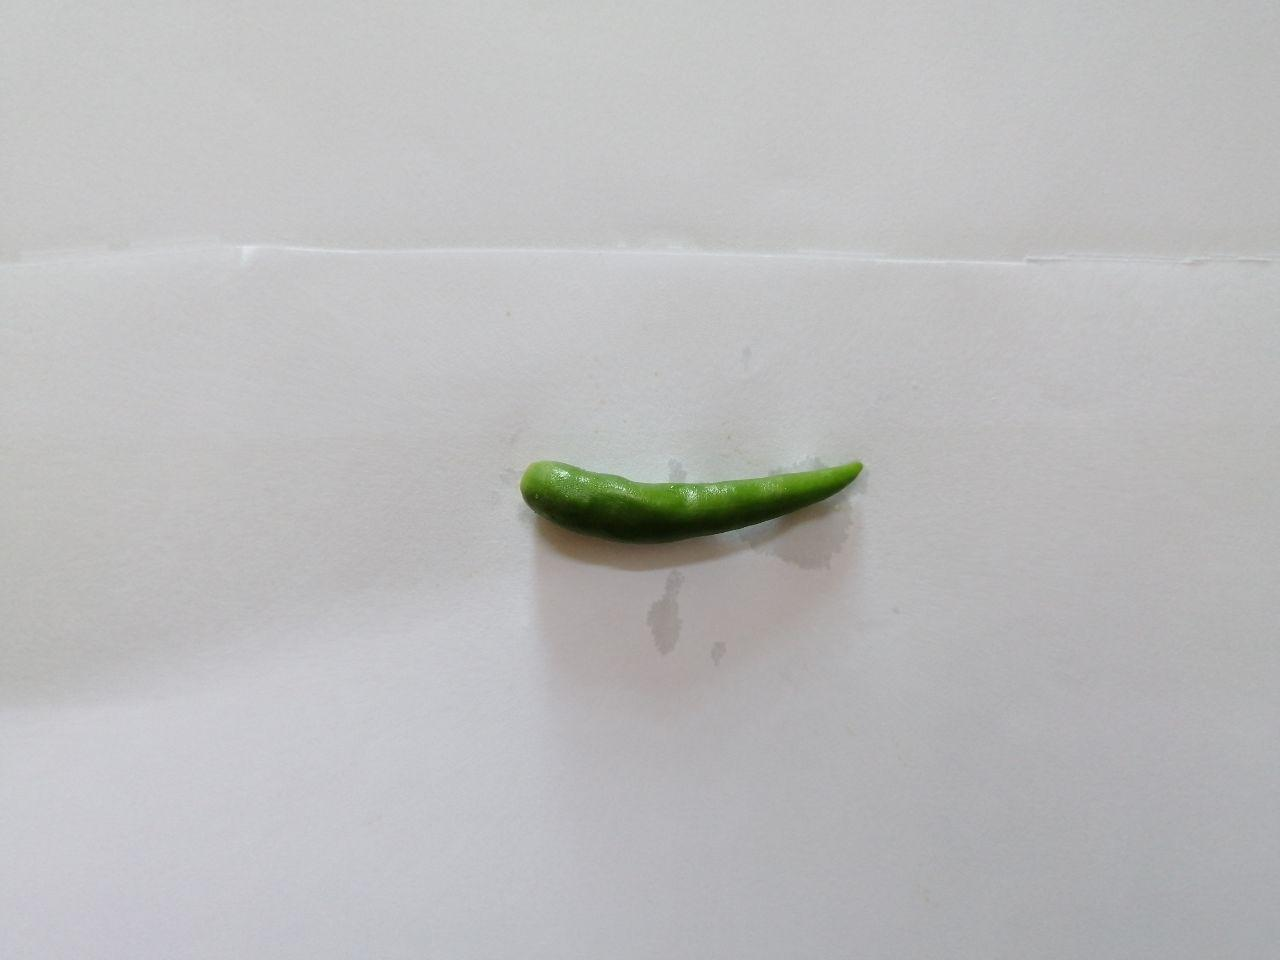lada hijau: (490, 406, 888, 600)
